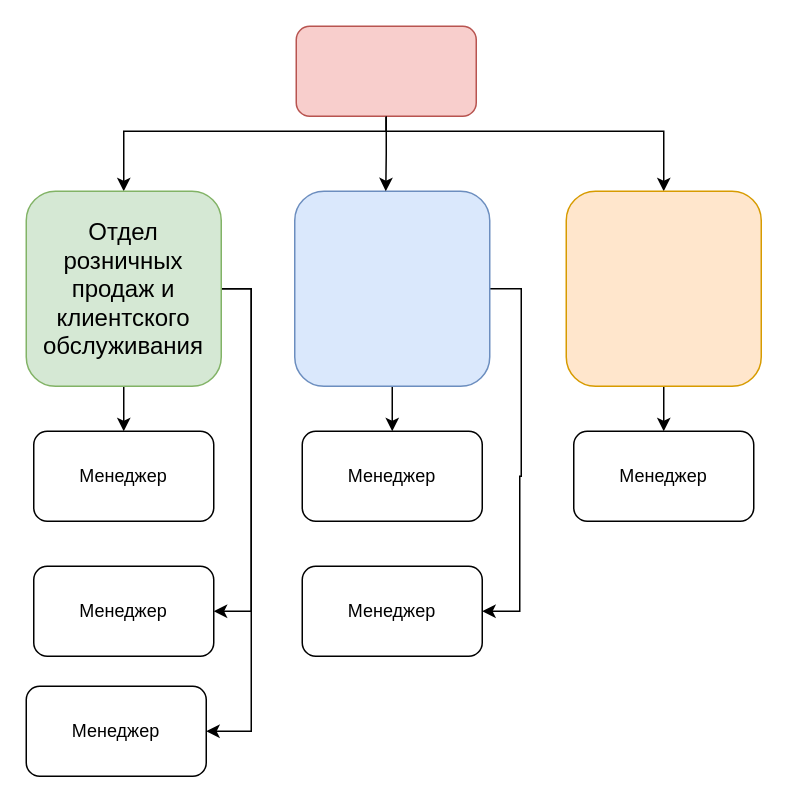
Image size: 788x803. Some labels were removed from this diagram. Each missing label, with the centre of its shape:
"Директор" belongs at point 385,70.
"Ипотечный отдел" belongs at point 663,288.
"Корпоративный отдел" belongs at point 391,288.
